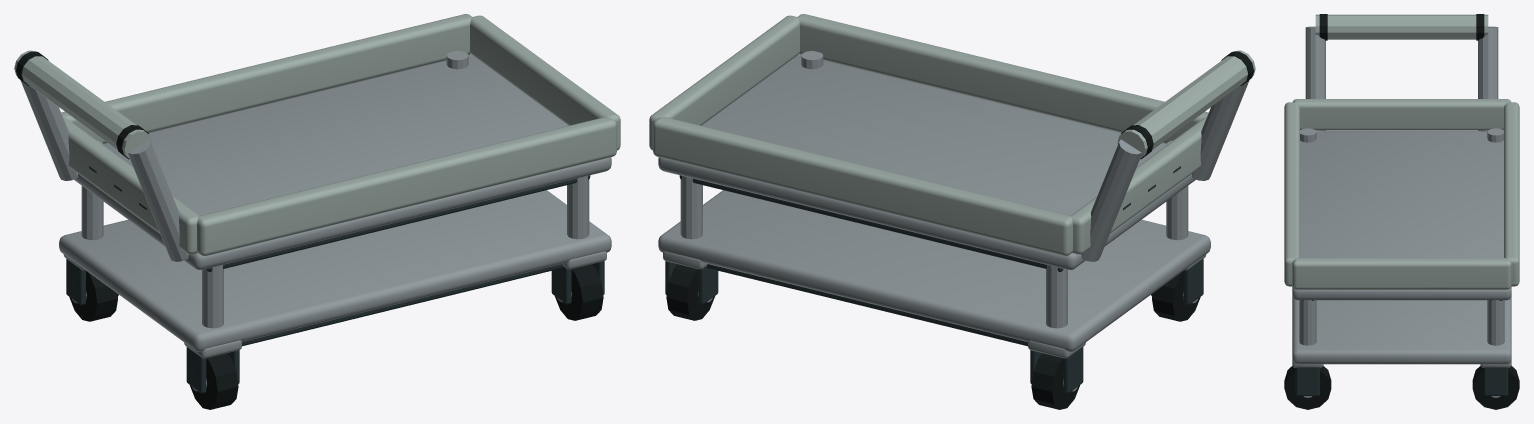
File: trolley.glb
3 views of the same model, side by side, from view 1: azimuth 30°, elevation 25°; view 2: azimuth 150°, elevation 25°; view 3: azimuth 270°, elevation 25° (orthographic). The views are drawn at different scales.
Parts seen in each view (by area): view 1: trolley 03 satin stainless, trolley 01 warm ceramic enamel, trolley 02 graphite powdercoat, trolley 04 EPDM gasket; view 2: trolley 03 satin stainless, trolley 01 warm ceramic enamel, trolley 02 graphite powdercoat, trolley 04 EPDM gasket; view 3: trolley 03 satin stainless, trolley 01 warm ceramic enamel, trolley 04 EPDM gasket, trolley 02 graphite powdercoat.
Part boxes in pixels (left/top/right/bottom): trolley 03 satin stainless: left=20, top=51, right=611, bottom=391; trolley 01 warm ceramic enamel: left=14, top=14, right=620, bottom=255; trolley 02 graphite powdercoat: left=66, top=166, right=604, bottom=393; trolley 04 EPDM gasket: left=16, top=51, right=603, bottom=409; trolley 03 satin stainless: left=658, top=51, right=1249, bottom=391; trolley 01 warm ceramic enamel: left=649, top=14, right=1255, bottom=255; trolley 02 graphite powdercoat: left=665, top=166, right=1203, bottom=393; trolley 04 EPDM gasket: left=666, top=51, right=1253, bottom=409; trolley 03 satin stainless: left=1292, top=26, right=1511, bottom=397; trolley 01 warm ceramic enamel: left=1284, top=14, right=1519, bottom=289; trolley 04 EPDM gasket: left=1284, top=14, right=1519, bottom=409; trolley 02 graphite powdercoat: left=1295, top=300, right=1508, bottom=395.
Size of the model in its own units: 1.74 by 0.9906 by 0.9375.
4 materials, 4 textured.
